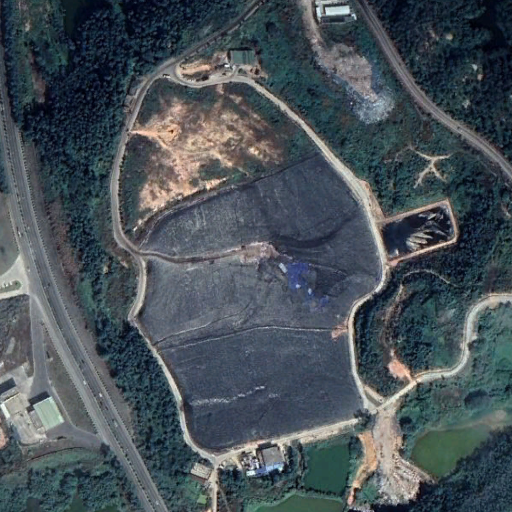lf: (129, 156, 385, 452)
